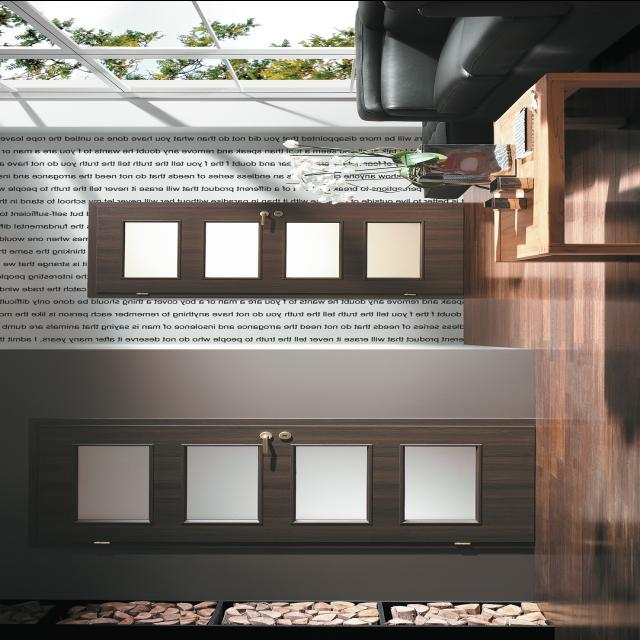close: (38, 423, 539, 548), (95, 204, 465, 294)
